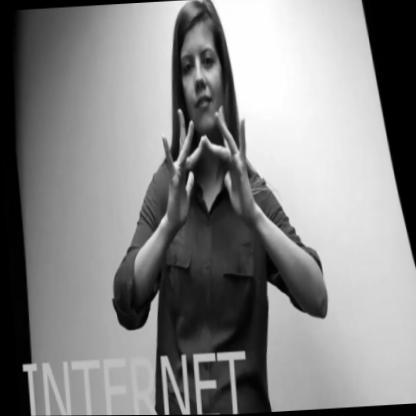Internet: (159, 101, 254, 232)
